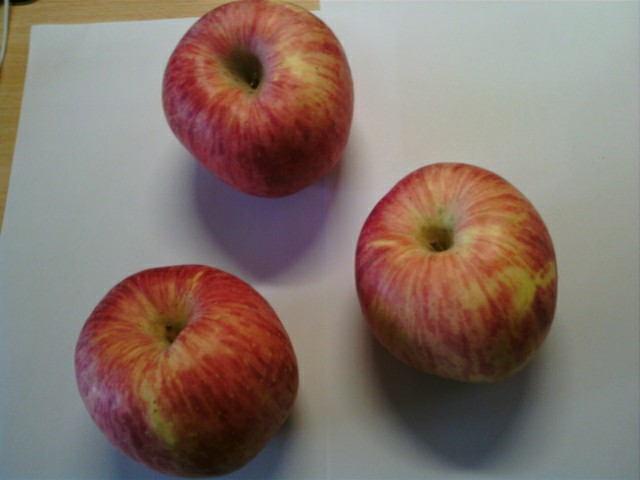normal_apple: (77, 264, 298, 480), (353, 161, 562, 383), (160, 4, 356, 198)
